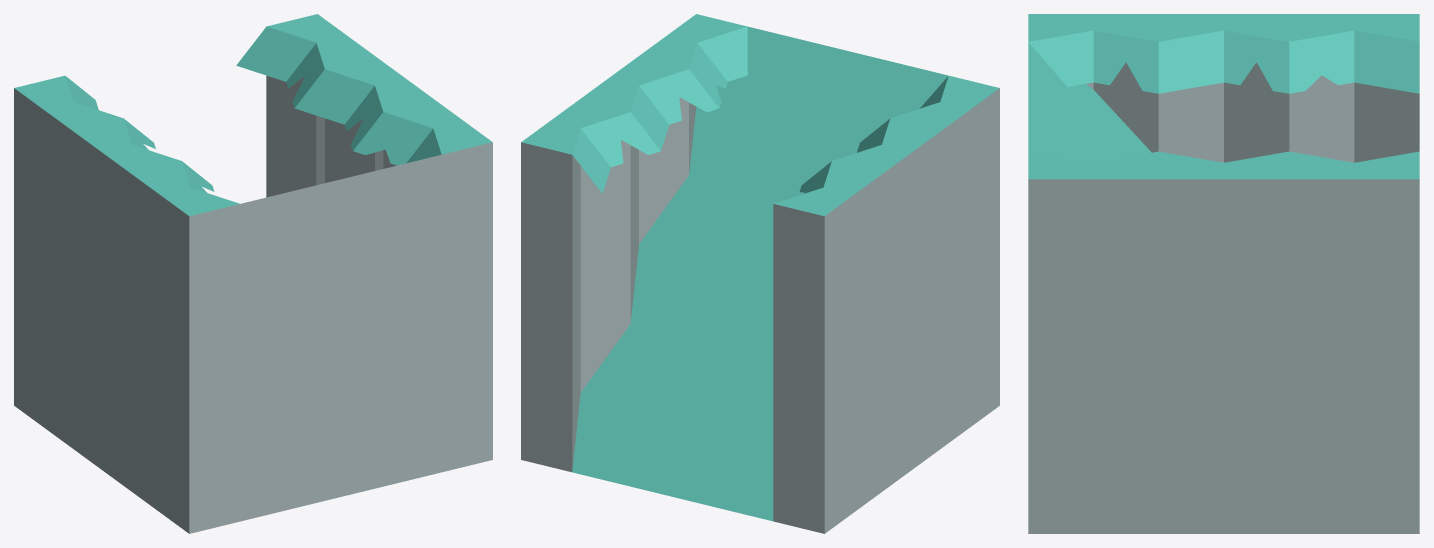
File: cliff_blockSlopeWalls_stone.glb
3 views of the same model, side by side, from view 1: azimuth 30°, elevation 25°; view 2: azimuth 150°, elevation 25°; view 3: azimuth 270°, elevation 25° (orthographic). The views are drawn at different scales.
Parts seen in each view (by area): view 1: cliff_blockSlopeWalls_stone; view 2: cliff_blockSlopeWalls_stone; view 3: cliff_blockSlopeWalls_stone.
Boxes of the visible parts, x1,y1,x2,y2 form: cliff_blockSlopeWalls_stone: [14, 14, 492, 533]; cliff_blockSlopeWalls_stone: [521, 14, 999, 533]; cliff_blockSlopeWalls_stone: [1028, 14, 1419, 533].
Bounding box in the file's own units: 1 × 1 × 1.
